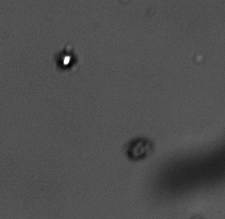Dead Cell: (128, 137, 149, 160)
Living Cell: (56, 50, 76, 70)
